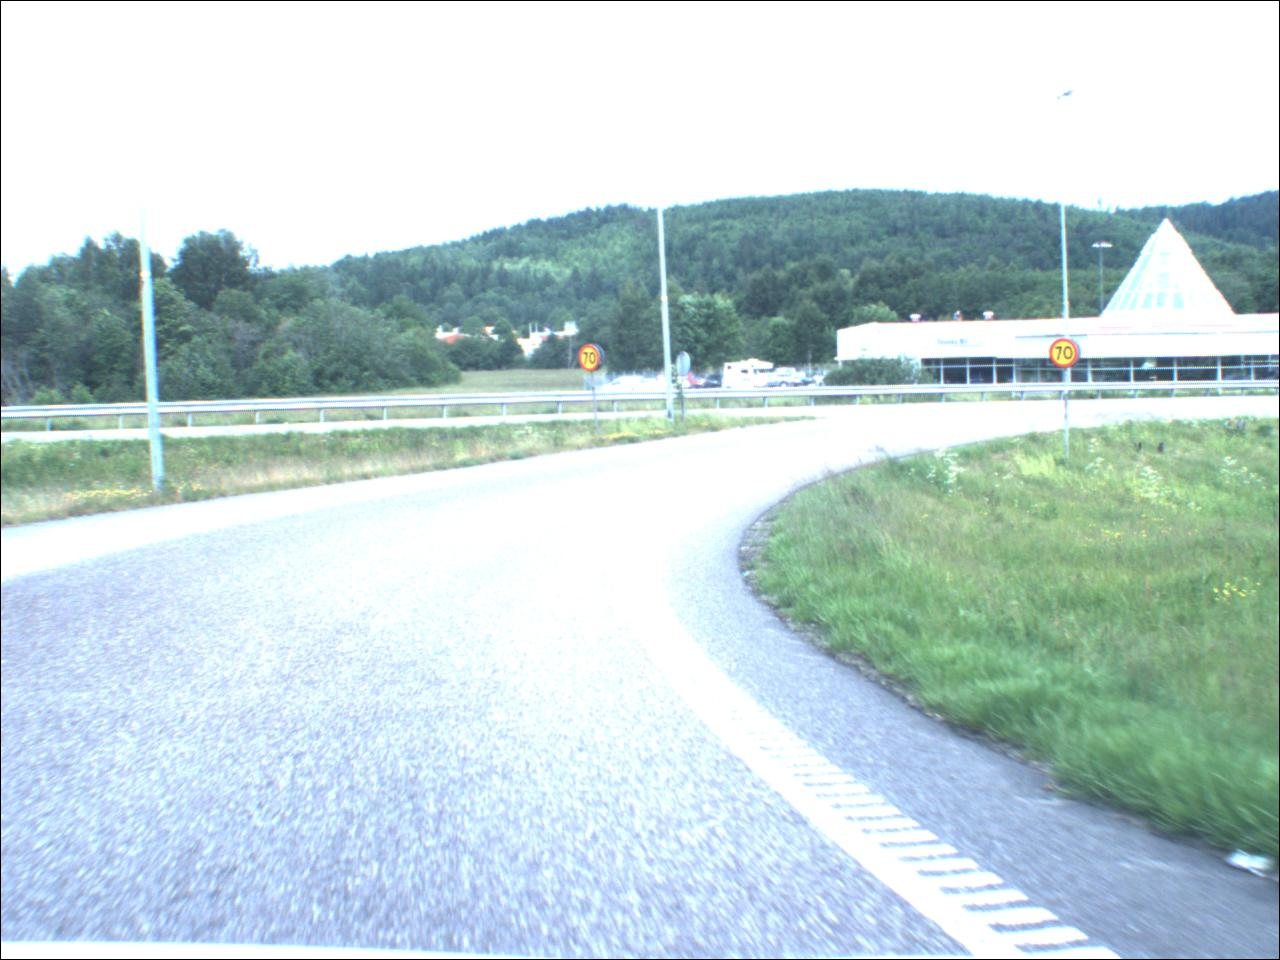70_SIGN: (1052, 340, 1082, 371), (581, 345, 604, 375)
